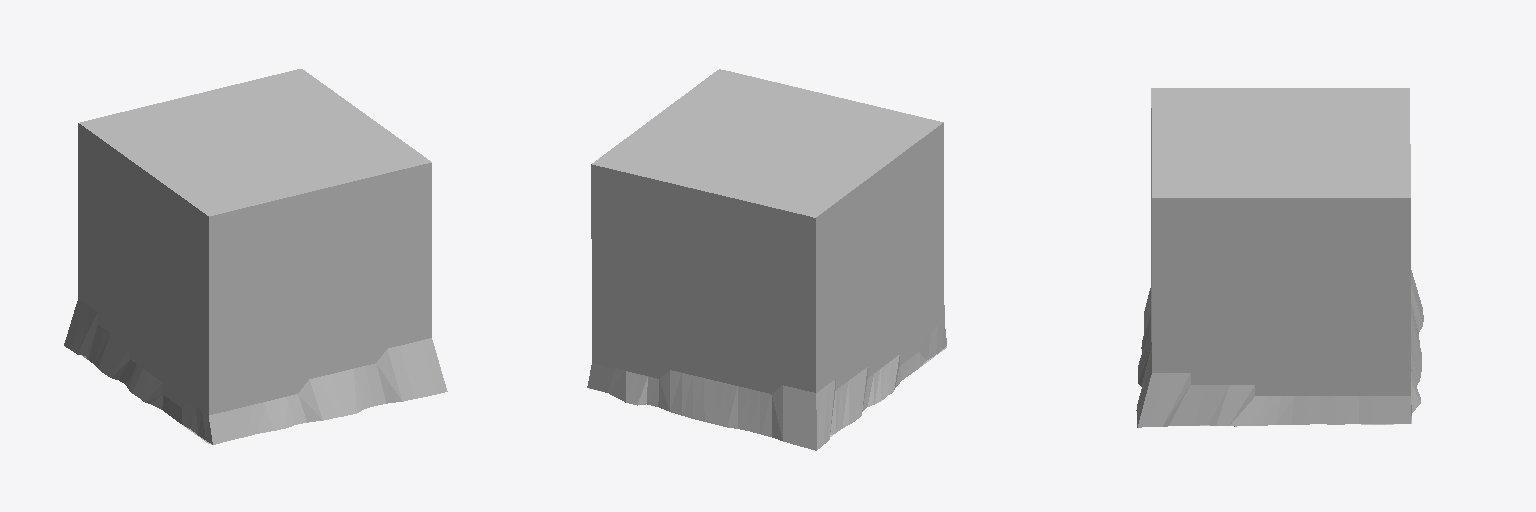
File: mod0186.obj
3 views of the same model, side by side, from view 1: azimuth 30°, elevation 25°; view 2: azimuth 150°, elevation 25°; view 3: azimuth 270°, elevation 25° (orthographic).
Visible parts, largest first — view 1: Box001; view 2: Box001; view 3: Box001.
Part boxes in pixels (bbox=[...]): Box001: bbox=[64, 69, 447, 444]; Box001: bbox=[587, 69, 946, 450]; Box001: bbox=[1136, 88, 1423, 427].
Size of the model in its own units: 0.5799 by 0.5223 by 0.5979.